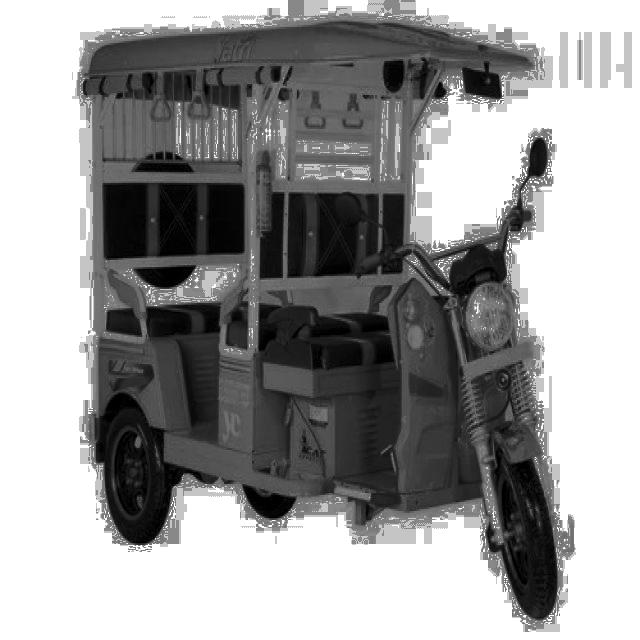Toto: (82, 11, 576, 611)
